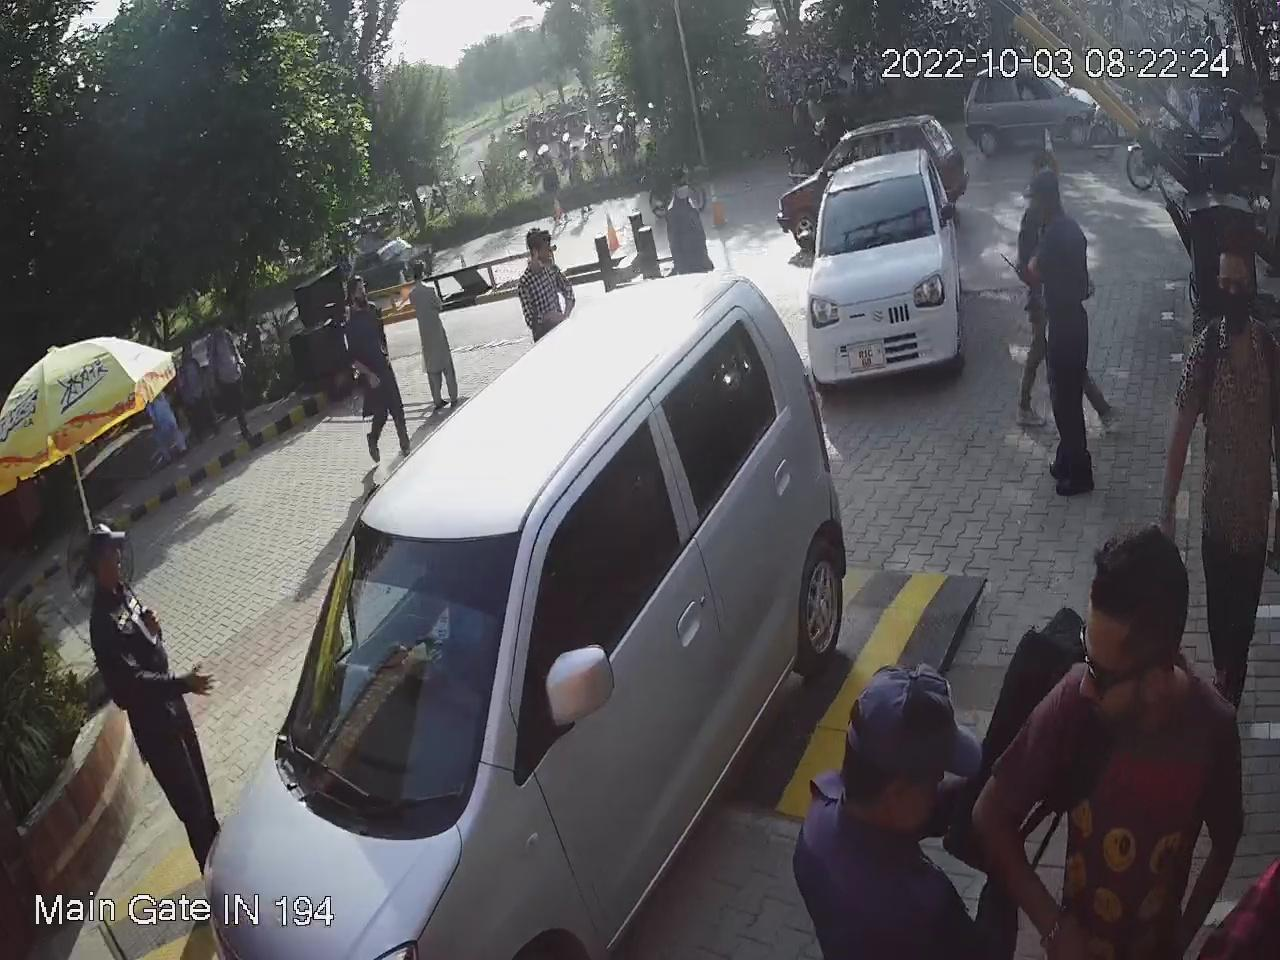windshield: (263, 510, 523, 820), (815, 162, 938, 260)
